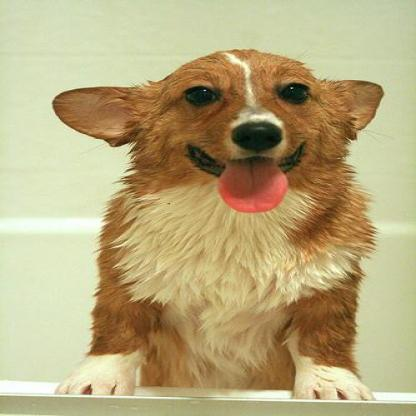Pembroke: (46, 42, 387, 403)
